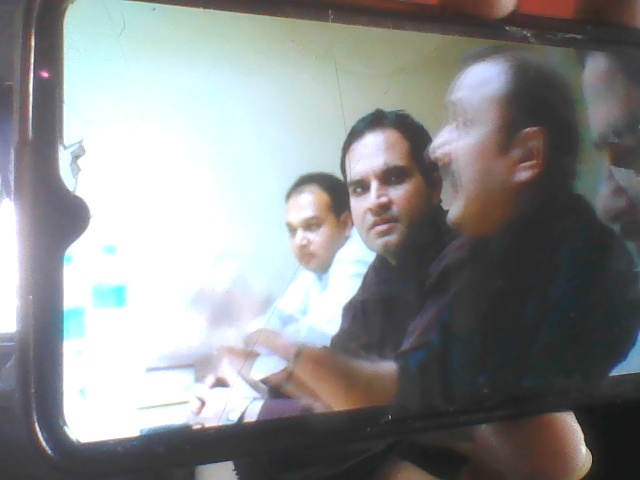fake: (338, 87, 461, 262)
